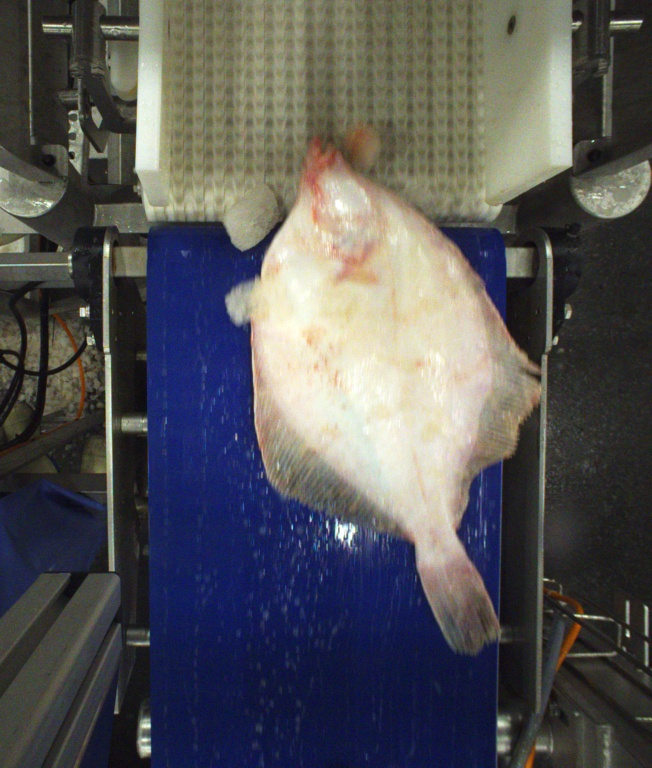PLE: (247, 133, 537, 652)
